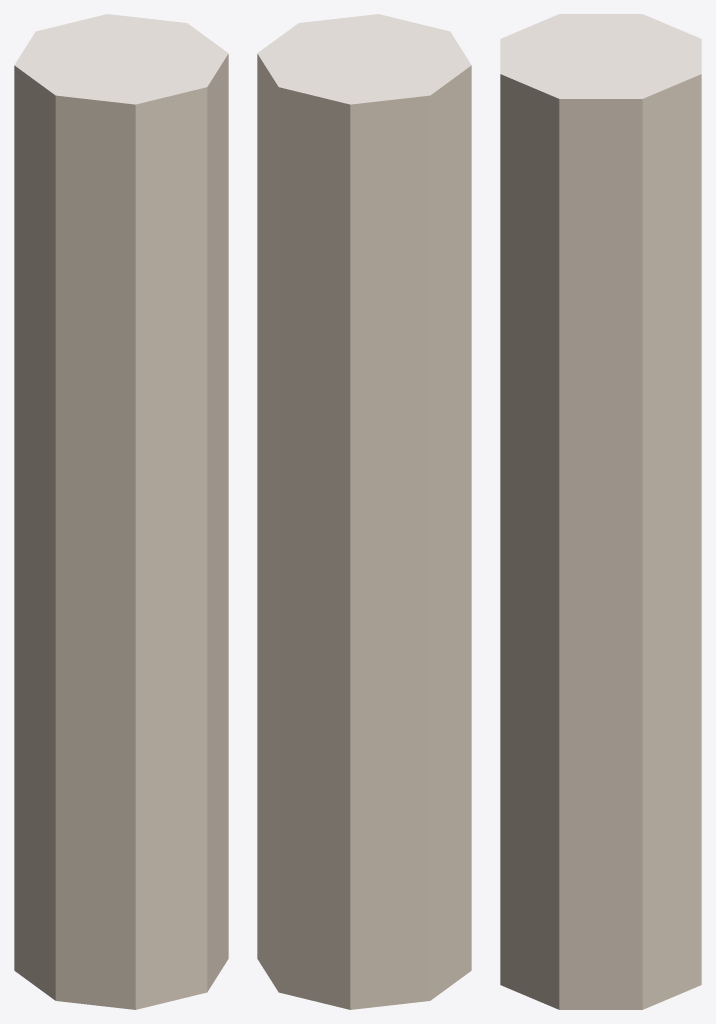
The model's file is temple_Wall_End_Middle.glb.
3 views of the same model, side by side, from view 1: azimuth 30°, elevation 25°; view 2: azimuth 150°, elevation 25°; view 3: azimuth 270°, elevation 25° (orthographic).
Visible parts, largest first — view 1: object1; view 2: object1; view 3: object1.
Part boxes in pixels (<box>): object1: <box>14,14,228,1009</box>; object1: <box>257,14,471,1009</box>; object1: <box>500,14,701,1009</box>.
Bounding box in the file's own units: 0.2 × 1 × 0.2.
